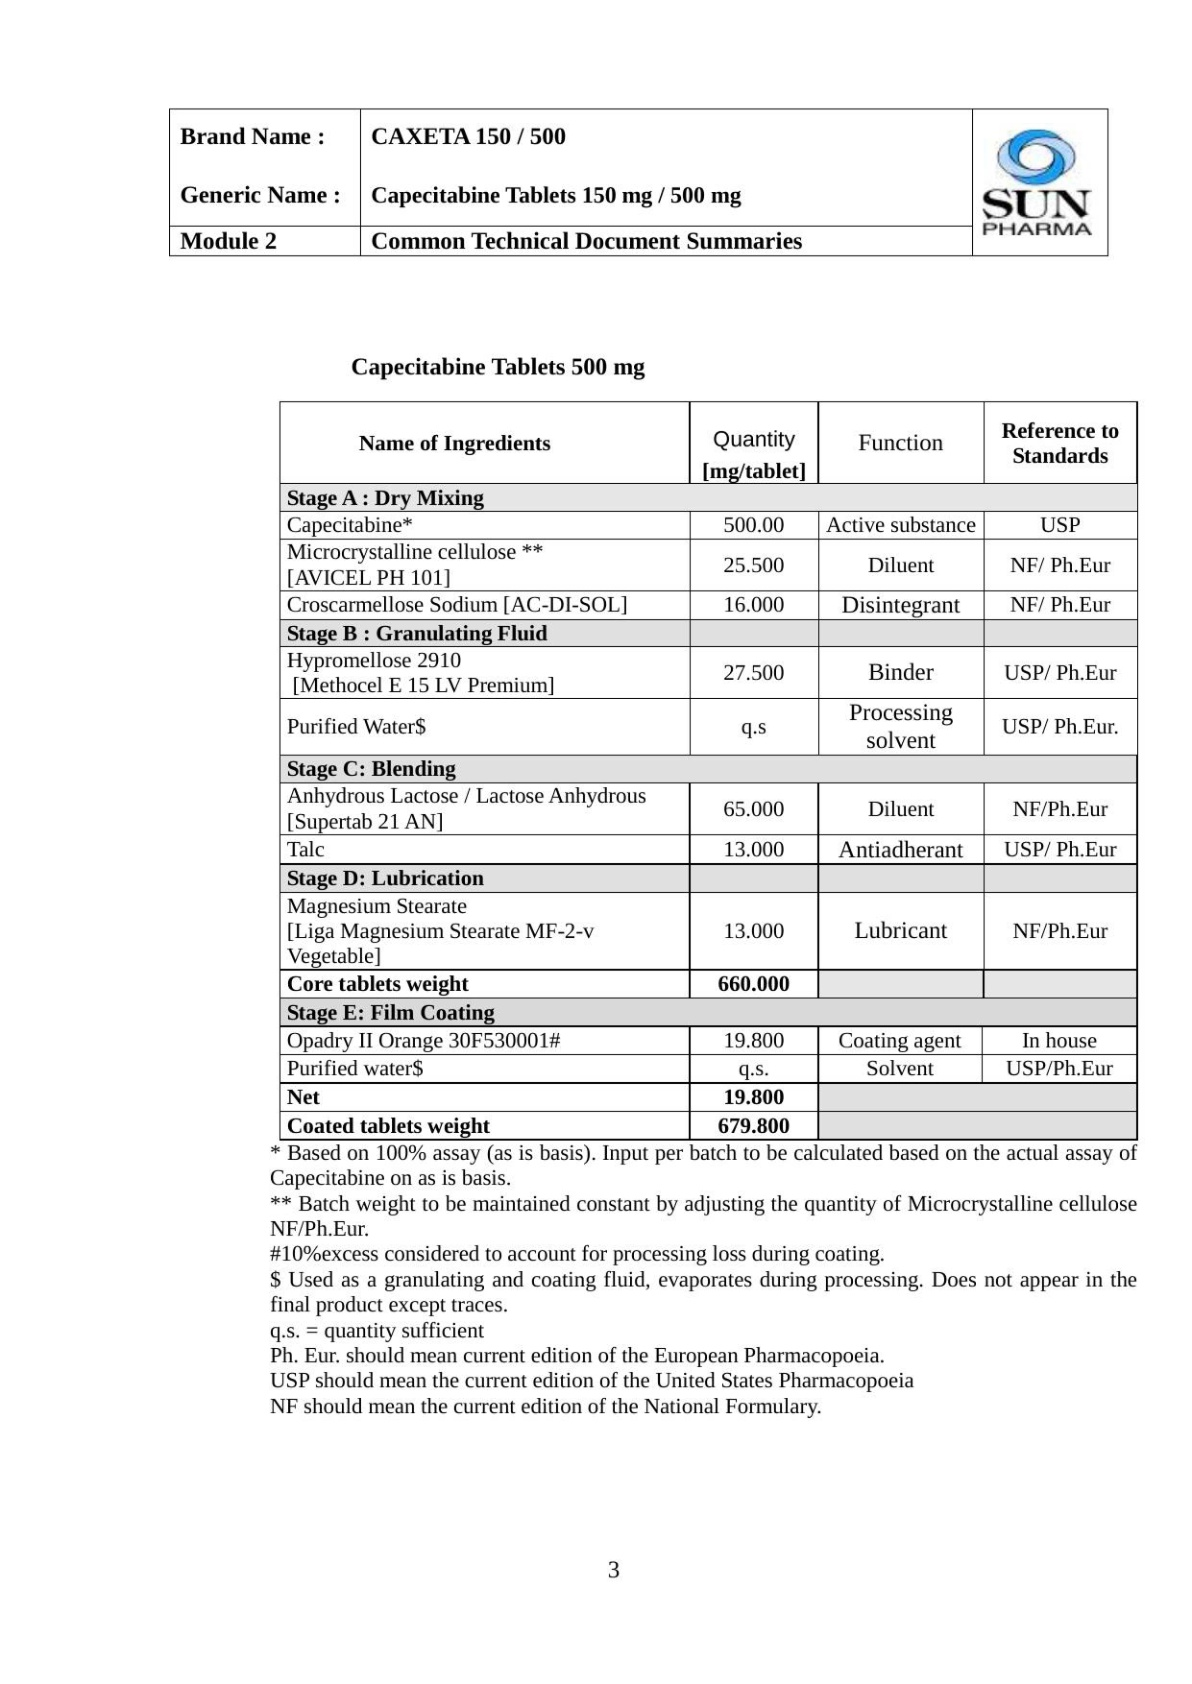merged_cells: (277, 400, 1139, 1141), (168, 108, 1109, 257)
